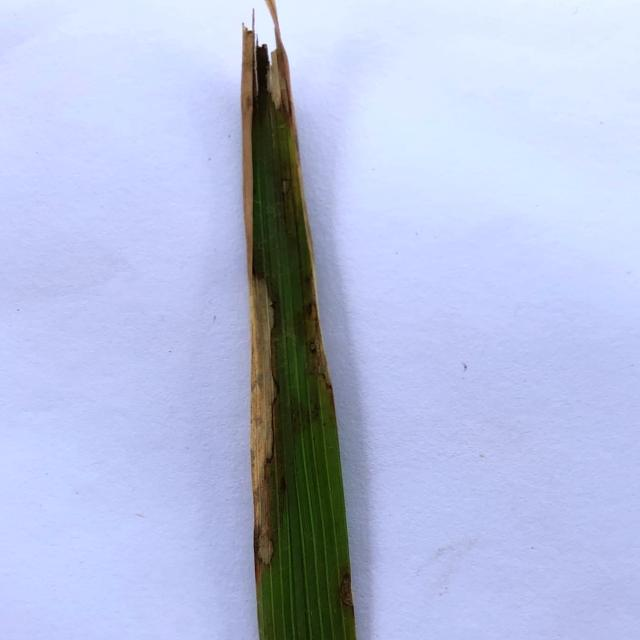leaf blight: (237, 0, 280, 568)
